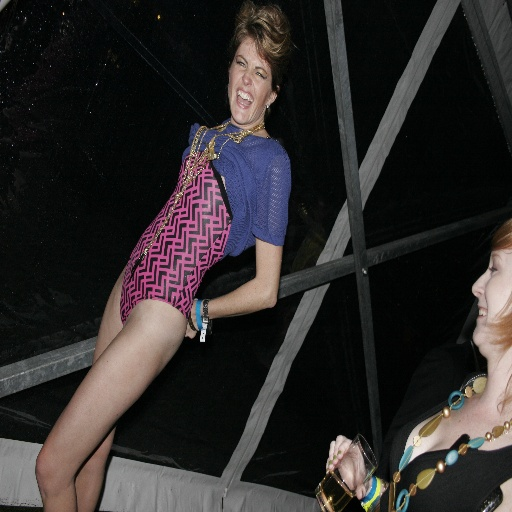hand: (328, 437, 384, 505), (185, 299, 198, 341)
